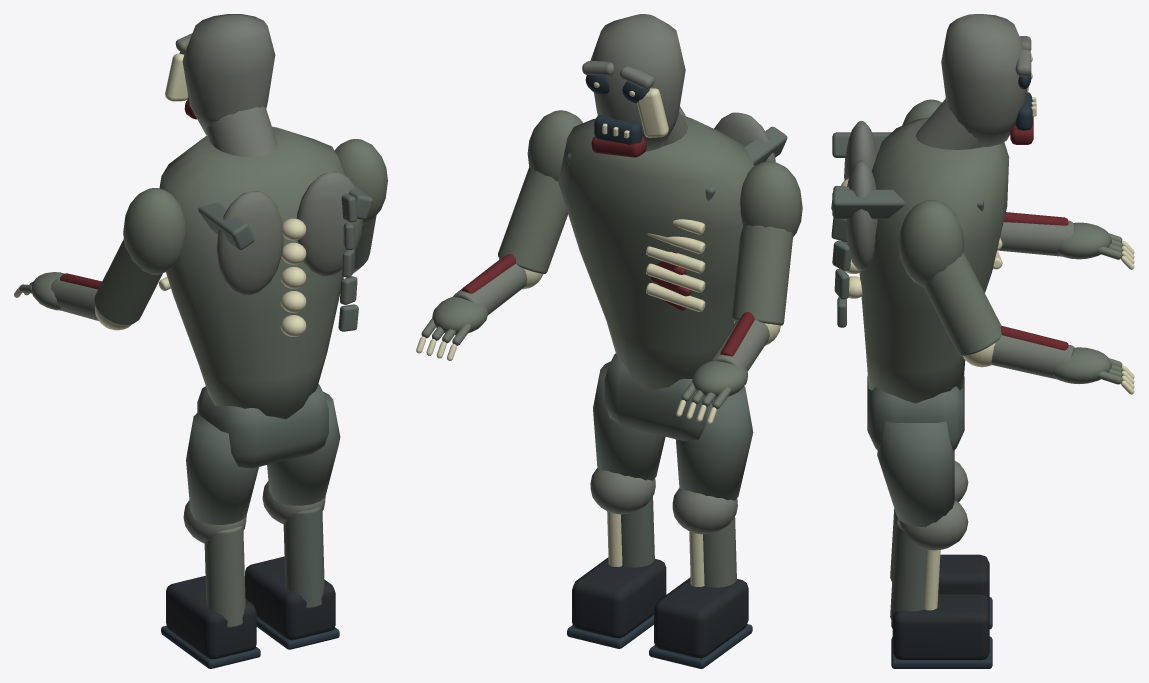
The model's file is 10_zombie_walker.glb.
3 views of the same model, side by side, from view 1: azimuth 30°, elevation 25°; view 2: azimuth 150°, elevation 25°; view 3: azimuth 270°, elevation 25° (orthographic). The views are drawn at different scales.
Visible parts, largest first — view 1: Ribcage, Scapula, Deltoid, Torn trousers, Thigh, Combat boot, Combat boot.001, Ragged harness, Thigh.001, Tibia.001, Tibia, Exposed cheekbone (+7 smaller); view 2: Ribcage, Scapula, Deltoid, Deltoid.001, Combat boot, Combat boot.001, Thigh, Torn trousers, Exposed cheekbone, Thigh.001, Exposed knee.001, Exposed knee (+15 smaller); view 3: Ribcage, Scapula, Deltoid.001, Thigh.001, Combat boot.001, Ragged harness, Torn trousers, Tibia.001, Forearm.001, Combat boot, Forearm, Hand.001 (+9 smaller).
Boxes of the visible parts, x1,y1,x2,y2 form: Ribcage: (159,126,344,419); Scapula: (175,14,362,295); Deltoid: (94,188,185,325); Torn trousers: (197,384,328,468); Thigh: (186,412,258,524); Combat boot: (166,576,256,659); Combat boot.001: (245,556,335,639); Ragged harness: (198,186,372,331); Thigh.001: (267,391,340,505); Tibia.001: (283,506,324,608); Tibia: (204,525,245,627); Exposed cheekbone: (158,53,306,336); Ribcage: (558,115,754,390); Scapula: (582,14,775,161); Deltoid: (731,161,802,325); Deltoid.001: (498,110,582,273); Combat boot: (654,577,748,658); Combat boot.001: (572,557,666,638); Thigh: (675,386,753,500); Torn trousers: (604,353,715,440); Exposed cheekbone: (593,82,705,311); Thigh.001: (593,361,665,480); Exposed knee.001: (590,468,655,514); Exposed knee: (672,488,737,534); Ribcage: (859,117,1009,403); Scapula: (844,14,1031,270); Deltoid.001: (898,199,1001,355); Thigh.001: (877,421,954,527); Combat boot.001: (892,594,989,659); Ragged harness: (831,132,983,327); Torn trousers: (867,376,964,450); Tibia.001: (890,519,927,621); Forearm.001: (991,335,1074,379); Combat boot: (938,554,989,602); Forearm: (997,220,1074,256); Hand.001: (1052,347,1122,384).
Bounding box in the file's own units: 0.894 × 1.75 × 0.7805.
